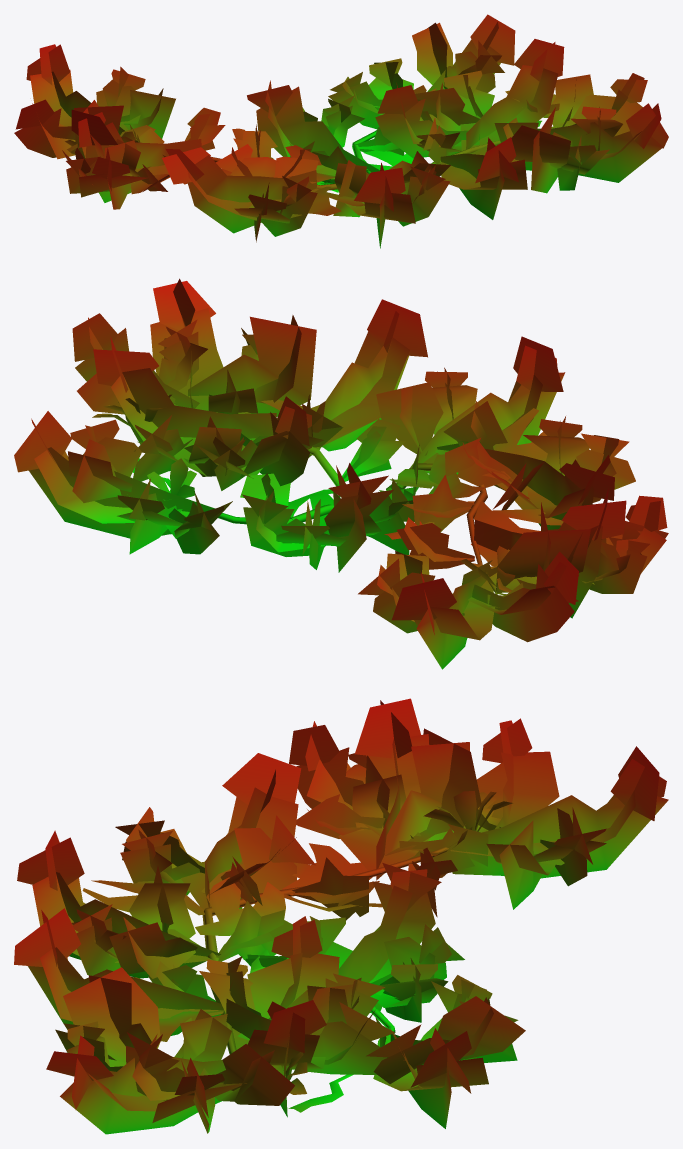
Rendered from Alpine Bearberry_LOD4_Var13_xb0gdazqx.fbx.
3 views of the same model, one above another, from view 1: azimuth 30°, elevation 25°; view 2: azimuth 150°, elevation 25°; view 3: azimuth 270°, elevation 25° (orthographic). The views are drawn at different scales.
Visible parts, largest first — view 1: _wgco_Var13_LOD4; view 2: _wgco_Var13_LOD4; view 3: _wgco_Var13_LOD4.
Boxes of the visible parts, box(x1,y1,x2,y2) form: _wgco_Var13_LOD4: box(14, 14, 668, 248); _wgco_Var13_LOD4: box(14, 278, 668, 669); _wgco_Var13_LOD4: box(14, 698, 668, 1134).
Size of the model in its own units: 64.28 by 14.2 by 50.52.
